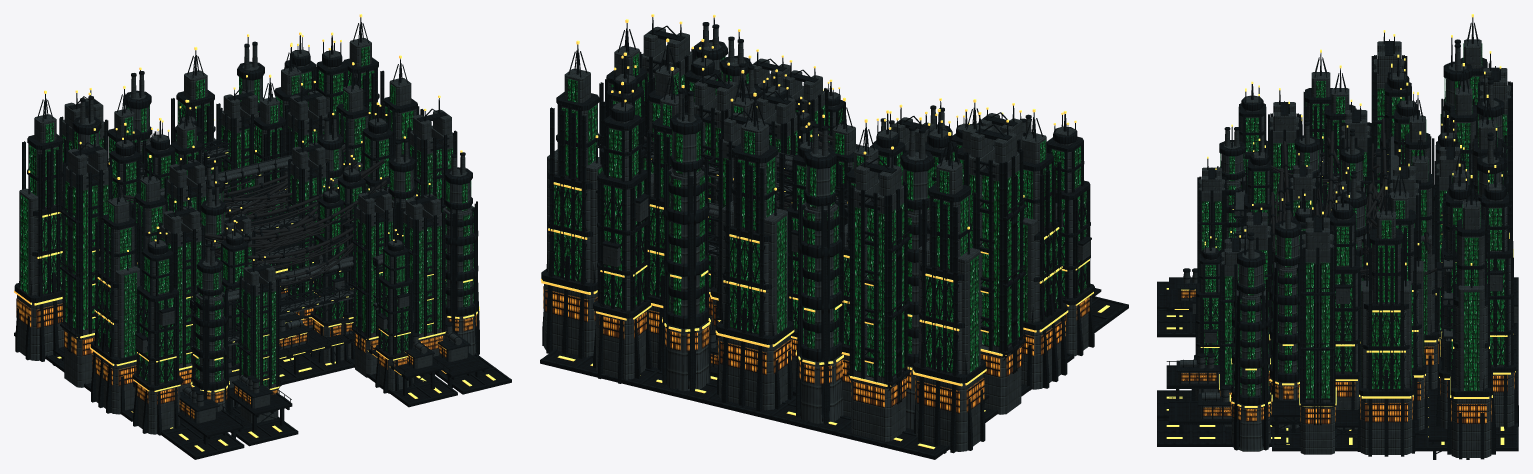
File: cityscape_expansion.glb
3 renders of one model, left to right at view 1: azimuth 30°, elevation 25°; view 2: azimuth 150°, elevation 25°; view 3: azimuth 270°, elevation 25°, orthographic. The views are drawn at different scales.
Parts seen in each view (by area): view 1: Tower_L_Out_01_Frame, Tower_L_Out_04_Frame, Tower_L_Out_03_Frame, Tower_L_Out_02_Frame, Tower_R_Out_01_Frame, Tower_L_Out_04_Steel, Tower_R_In_01_Frame, Tower_R_In_02_Frame, Tower_L_Mid_01_Frame, Tower_R_Mid_01_Frame, Tower_L_Out_02_Steel, Tower_L_In_01_Frame (+99 smaller); view 2: Tower_Vista_Citadel_Center_Frame, Tower_L_Out_04_Frame, Tower_Rear_Horiz_R2_Frame, Tower_Rear_Horiz_L2_Frame, Tower_R_Out_04_Frame, Tower_Rear_Horiz_R1_Frame, Tower_L_Out_03_Frame, Tower_Rear_Horiz_L1_Frame, Tower_Vista_Citadel_Center_Steel, Tower_L_Out_04_Steel, Tower_L_Out_02_Frame, Tower_Rear_Horiz_L2_Steel (+59 smaller); view 3: Tower_R_Out_03_Frame, Tower_R_Out_04_Steel, Tower_R_Out_03_Steel, Tower_R_Out_01_Frame, Tower_R_Out_02_Frame, Tower_R_Out_04_Frame, Tower_Rear_Horiz_R2_Frame, Tower_R_Out_02_Steel, Tower_R_Mid_02_Frame, Tower_R_Mid_03_Frame, Tower_R_Out_03_Windows, Tower_R_Out_01_Steel (+106 smaller).
Part boxes in pixels (x1,y1,x2,y2): Tower_L_Out_01_Frame: [132, 229, 182, 435]; Tower_L_Out_04_Frame: [14, 94, 68, 361]; Tower_L_Out_03_Frame: [60, 131, 112, 353]; Tower_L_Out_02_Frame: [91, 180, 141, 414]; Tower_R_Out_01_Frame: [440, 152, 479, 355]; Tower_L_Out_04_Steel: [17, 114, 63, 360]; Tower_R_In_01_Frame: [375, 231, 415, 393]; Tower_R_In_02_Frame: [351, 179, 398, 350]; Tower_L_Mid_01_Frame: [191, 242, 229, 413]; Tower_R_Mid_01_Frame: [400, 185, 447, 338]; Tower_L_Out_02_Steel: [93, 197, 139, 414]; Tower_L_In_01_Frame: [237, 258, 281, 390]; Tower_Vista_Citadel_Center_Frame: [716, 96, 793, 411]; Tower_L_Out_04_Frame: [913, 136, 986, 453]; Tower_Rear_Horiz_R2_Frame: [593, 85, 652, 383]; Tower_Rear_Horiz_L2_Frame: [846, 149, 910, 404]; Tower_R_Out_04_Frame: [541, 44, 605, 358]; Tower_Rear_Horiz_R1_Frame: [662, 88, 710, 391]; Tower_L_Out_03_Frame: [964, 115, 1026, 373]; Tower_Rear_Horiz_L1_Frame: [796, 118, 842, 424]; Tower_Vista_Citadel_Center_Steel: [719, 120, 790, 410]; Tower_L_Out_04_Steel: [916, 160, 983, 451]; Tower_L_Out_02_Frame: [1023, 112, 1067, 390]; Tower_Rear_Horiz_L2_Steel: [851, 159, 905, 441]; Tower_R_Out_03_Frame: [1357, 189, 1415, 456]; Tower_R_Out_04_Steel: [1451, 200, 1491, 457]; Tower_R_Out_03_Steel: [1360, 211, 1412, 454]; Tower_R_Out_01_Frame: [1232, 231, 1270, 450]; Tower_R_Out_02_Frame: [1300, 209, 1335, 425]; Tower_R_Out_04_Frame: [1447, 178, 1495, 459]; Tower_Rear_Horiz_R2_Frame: [1481, 168, 1518, 428]; Tower_R_Out_02_Steel: [1300, 217, 1334, 454]; Tower_R_Mid_02_Frame: [1270, 201, 1301, 427]; Tower_R_Mid_03_Frame: [1329, 189, 1360, 431]; Tower_R_Out_03_Windows: [1361, 220, 1411, 389]; Tower_R_Out_01_Steel: [1231, 236, 1270, 451].
Size of the model in its own units: 73.78 by 53.25 by 60.77.
9 materials, 7 textured.
